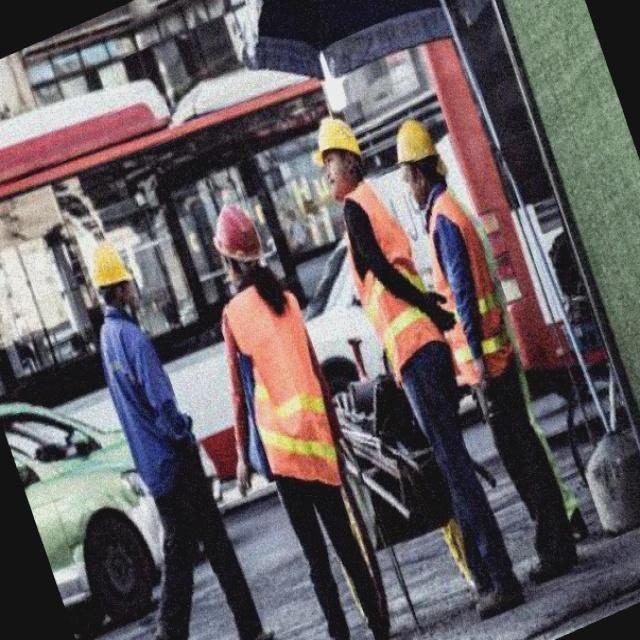helmet: (208, 202, 264, 266), (308, 112, 364, 162), (87, 240, 140, 290), (390, 116, 440, 169)
safety_vest: (222, 291, 345, 484), (334, 188, 444, 380), (90, 305, 200, 493), (420, 199, 514, 386)
